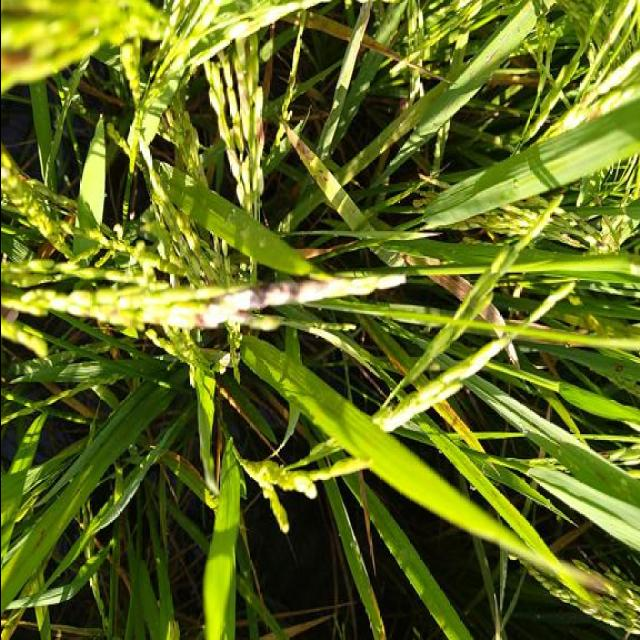Leaf Streak: (282, 120, 339, 200)
Panicle Blight: (166, 281, 348, 329)
